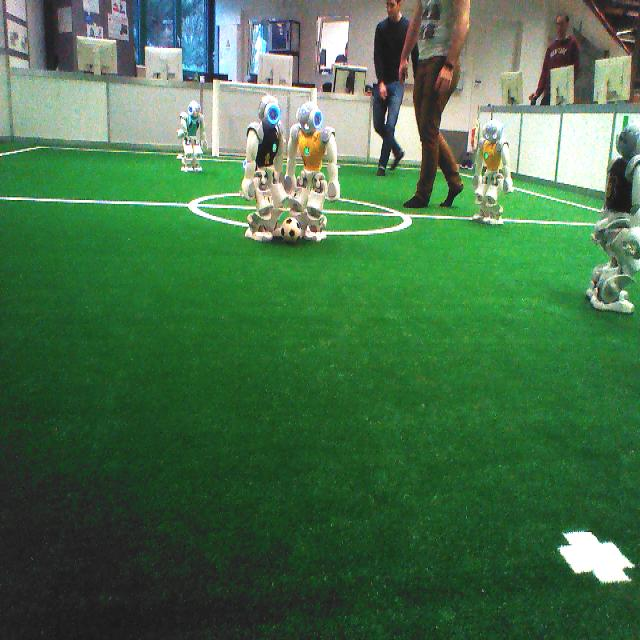ball: (275, 214, 308, 258)
goalpost: (210, 77, 223, 159), (310, 86, 320, 106)
